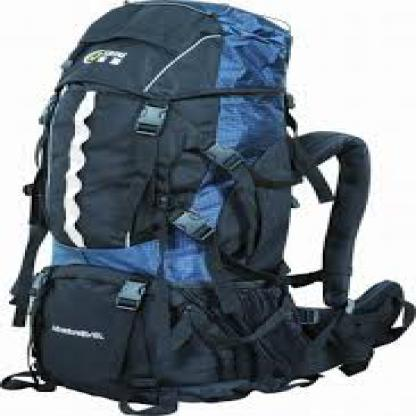morral: (4, 1, 404, 414)
